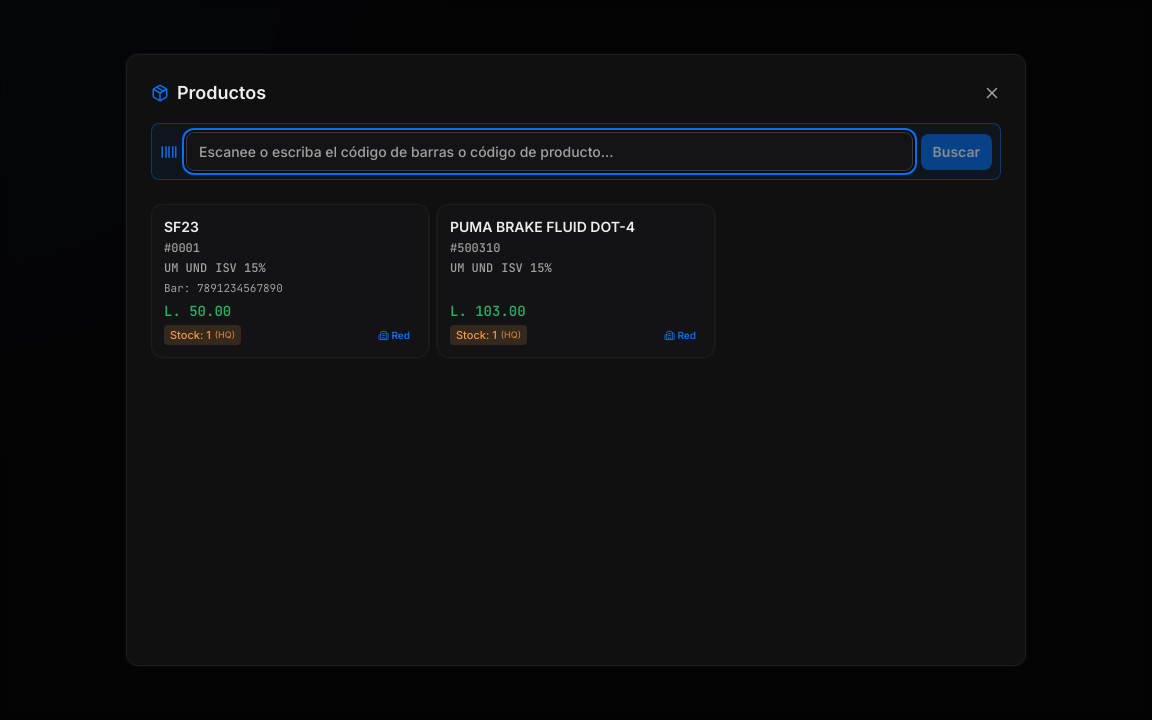
Test case: ProductModal › permite solicitar traspaso de inventario a otra sucursal
The image size is (1152, 720).
Click the button with test id "network-stock-0001" at (394, 335), box [372,326,416,344]
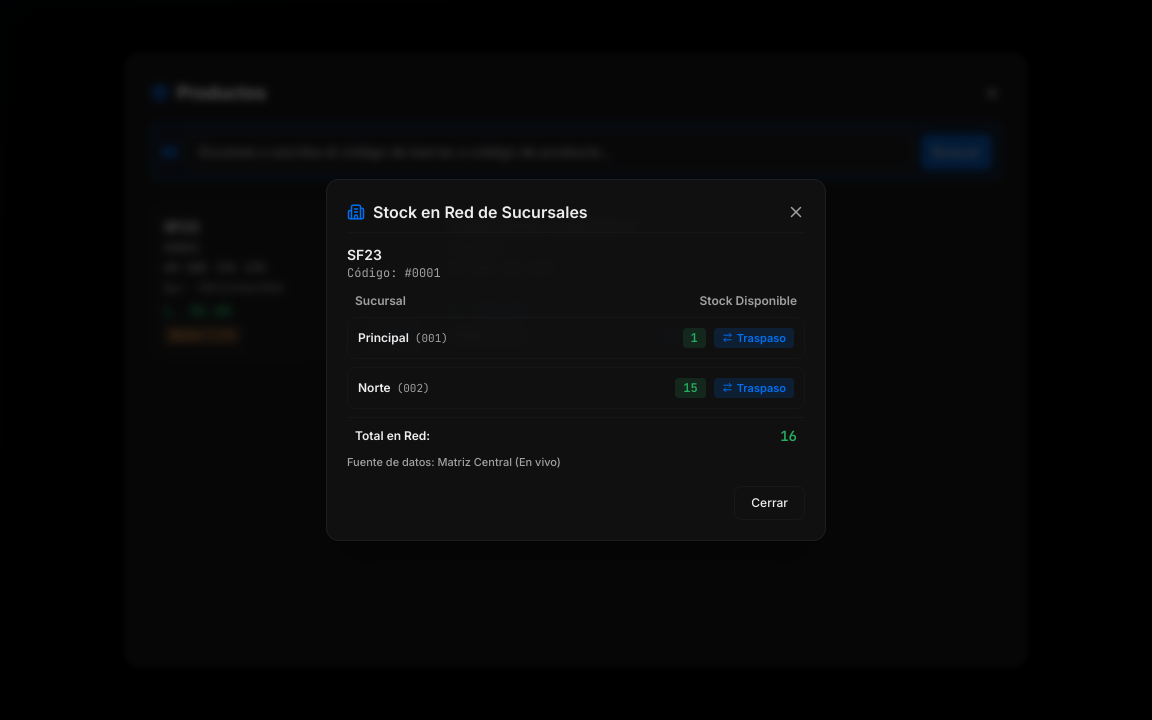
Result: the heading "Stock en Red de Sucursales" is shown at [373,200,588,224]
Result: the button "Traspaso" in the row of "Principal" is shown
Click the button "Traspaso" in the row of "Principal" at (754, 338), box [714,328,794,348]
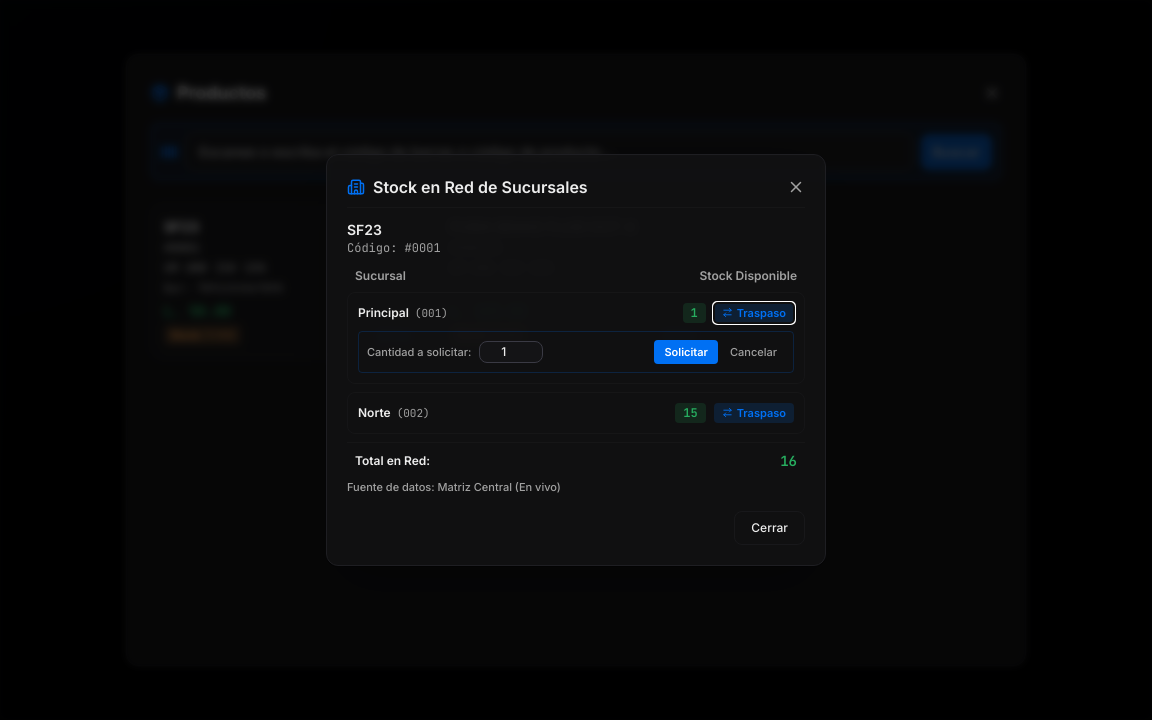
Result: the text "Cantidad a solicitar:" is shown at [367,344,471,360]
Click the button "Solicitar" at (686, 352), box [654,340,718,364]
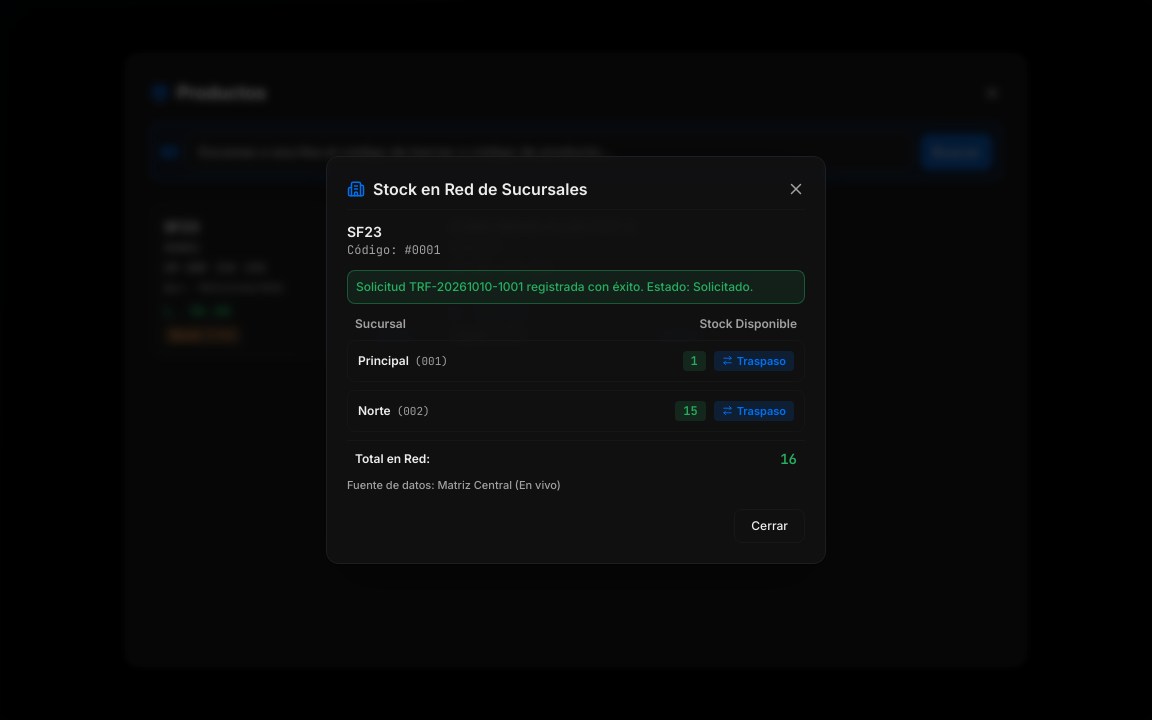
Result: the text "TRF-20261010-1001 registrada con éxito" is shown at [356,279,753,294]
